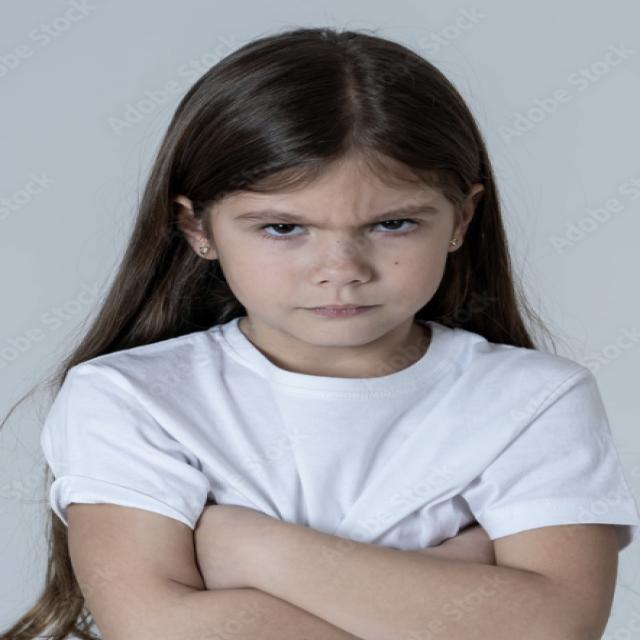angry: (212, 172, 457, 331)
